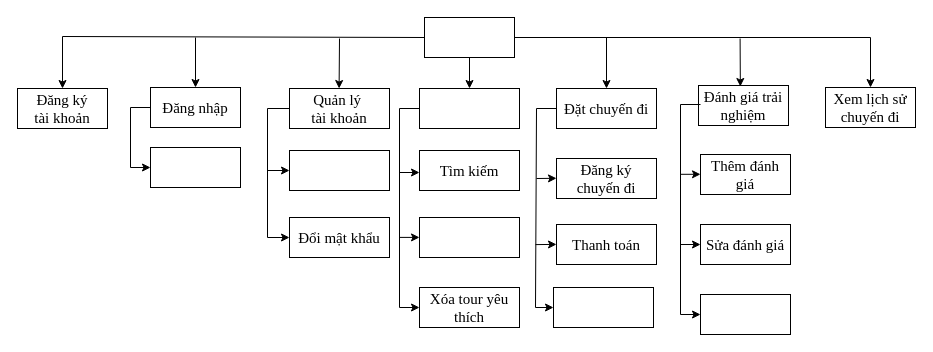
The diagram is 933 pixels wide and 352 high, and some of its shapes have lost their labels. Here are the shapes that lost their labels. From the top down, the centre of each, then its label:
the point at 469,37: Du khách
the point at 469,108: Khám phá tour
the point at 195,167: Lấy lại mật khẩu
the point at 339,170: Cập nhật hồ sơ
the point at 469,237: Thêm tour yêu thích
the point at 603,307: Hủy chuyến đi
the point at 745,314: Xóa đánh giá
